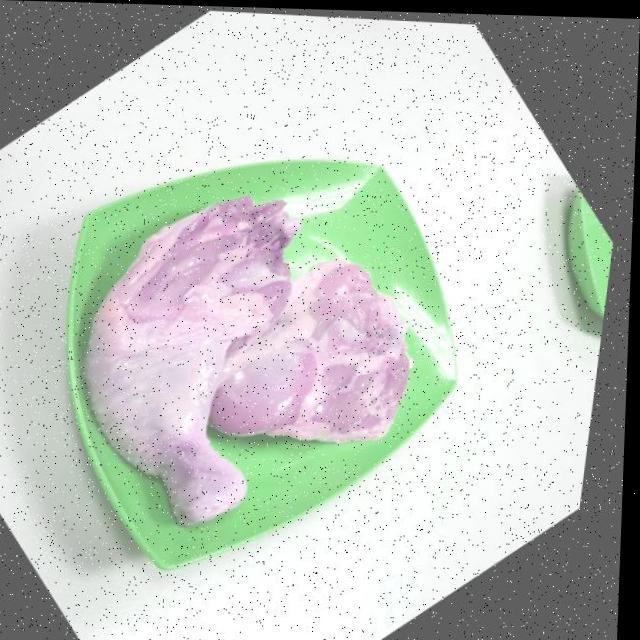quater: (74, 194, 278, 526), (172, 272, 446, 428)
